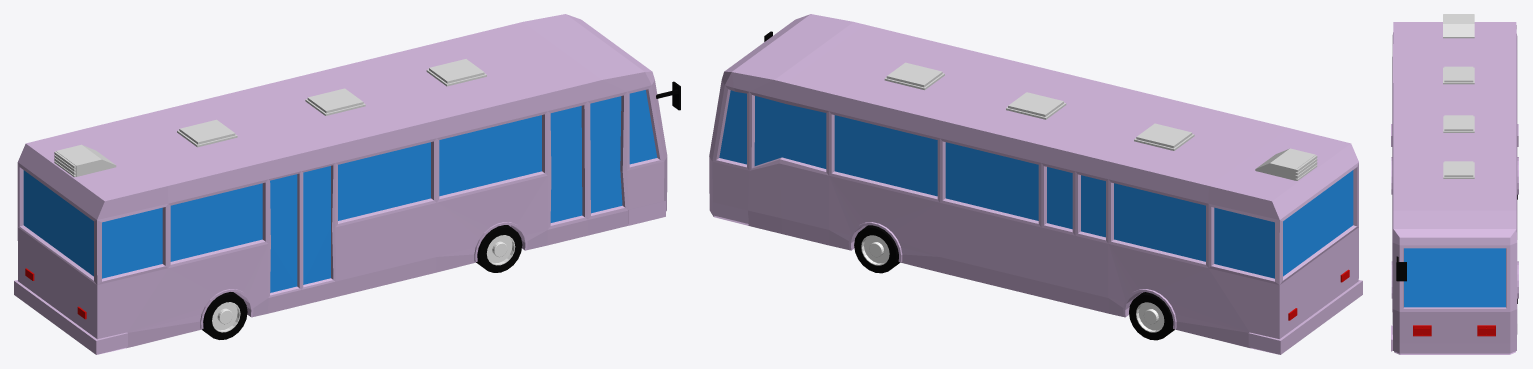
Rendered from bus_edited.fbx.
3 renders of one model, left to right at view 1: azimuth 30°, elevation 25°; view 2: azimuth 150°, elevation 25°; view 3: azimuth 270°, elevation 25°, orthographic. The views are drawn at different scales.
Visible parts, largest first — view 1: bus.057, bus.056, bus.054, bus.053, bus.063, bus.061, bus.070, bus.055, bus.052, bus.071, bus.058, bus.034 (+30 smaller); view 2: bus.057, bus.056, bus.054, bus.053, bus.064, bus.061, bus.066, bus.055, bus.052, bus.067, bus.068, bus.065 (+30 smaller); view 3: bus.052, bus.057, bus.056, bus.054, bus.055, bus.053, bus.072, bus.058, bus.069, bus.044, bus.046, bus.048 (+12 smaller).
Part boxes in pixels (box(x1,y1,x2,y2)): bus.057: box(357, 35, 547, 139); bus.056: box(256, 62, 436, 164); bus.054: box(89, 103, 268, 205); bus.053: box(17, 128, 168, 284); bus.063: box(126, 239, 270, 348); bus.061: box(17, 225, 168, 339); bus.070: box(335, 198, 436, 297); bus.055: box(189, 87, 335, 180); bus.052: box(511, 14, 654, 103); bus.071: box(436, 171, 547, 272); bus.058: box(468, 25, 590, 113); bus.034: box(550, 106, 582, 222); bus.057: box(829, 35, 1019, 139); bus.056: box(940, 62, 1120, 164); bus.054: box(1108, 103, 1287, 205); bus.053: box(1208, 128, 1358, 284); bus.064: box(1108, 239, 1250, 348); bus.061: box(1208, 225, 1358, 338); bus.066: box(940, 198, 1041, 297); bus.055: box(1041, 87, 1187, 180); bus.052: box(721, 14, 865, 103); bus.067: box(829, 171, 940, 272); bus.068: box(779, 157, 864, 250); bus.065: box(1041, 223, 1142, 313); bus.052: box(1392, 206, 1517, 248); bus.057: box(1392, 147, 1517, 202); bus.056: box(1392, 109, 1517, 160); bus.054: box(1392, 45, 1517, 95); bus.055: box(1392, 83, 1517, 121); bus.053: box(1392, 22, 1517, 57); bus.072: box(1391, 295, 1454, 354); bus.058: box(1392, 189, 1517, 217); bus.069: box(1455, 307, 1517, 343); bus.044: box(1447, 248, 1505, 285); bus.046: box(1404, 272, 1461, 307); bus.048: box(1393, 341, 1516, 353).
Size of the model in its own units: 799 by 232 by 194.
